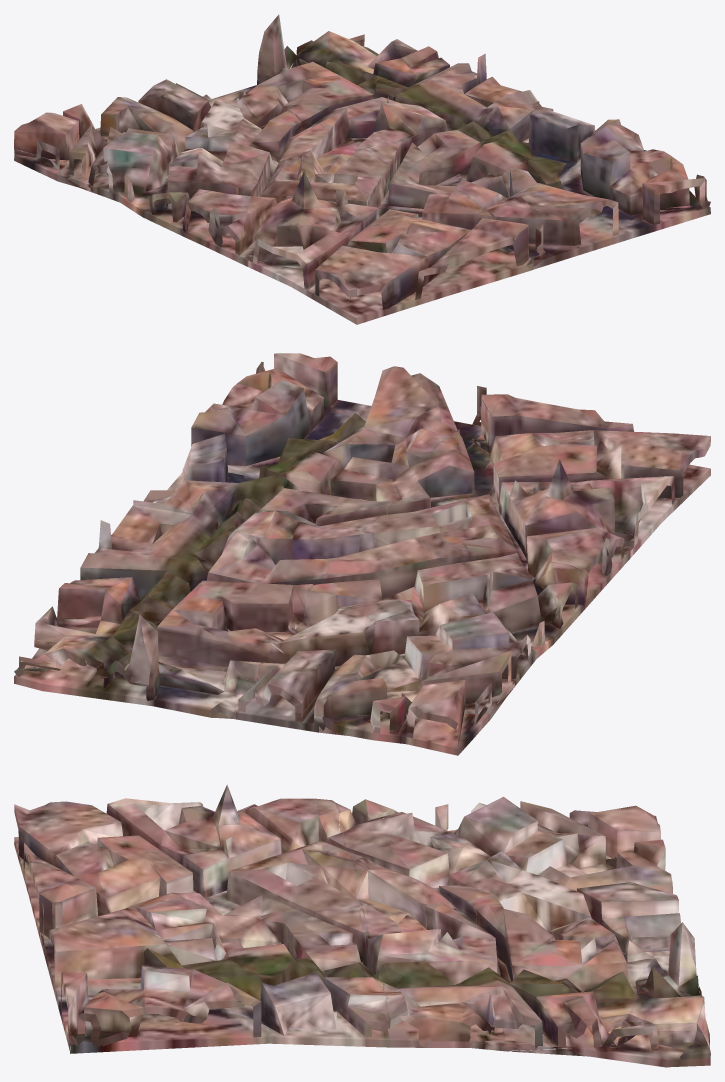
3 renders of one model, top to bottom at view 1: azimuth 30°, elevation 25°; view 2: azimuth 150°, elevation 25°; view 3: azimuth 270°, elevation 25°, orthographic. The views are drawn at different scales.
Parts seen in each view (by area): view 1: Mesh_0; view 2: Mesh_0; view 3: Mesh_0.
Part boxes in pixels (<box>): Mesh_0: <box>14,14,710,324</box>; Mesh_0: <box>14,353,710,755</box>; Mesh_0: <box>14,784,710,1067</box>.
Size of the model in its own units: 266 by 68.16 by 330.
Materials: 1 (1 with a texture image).
